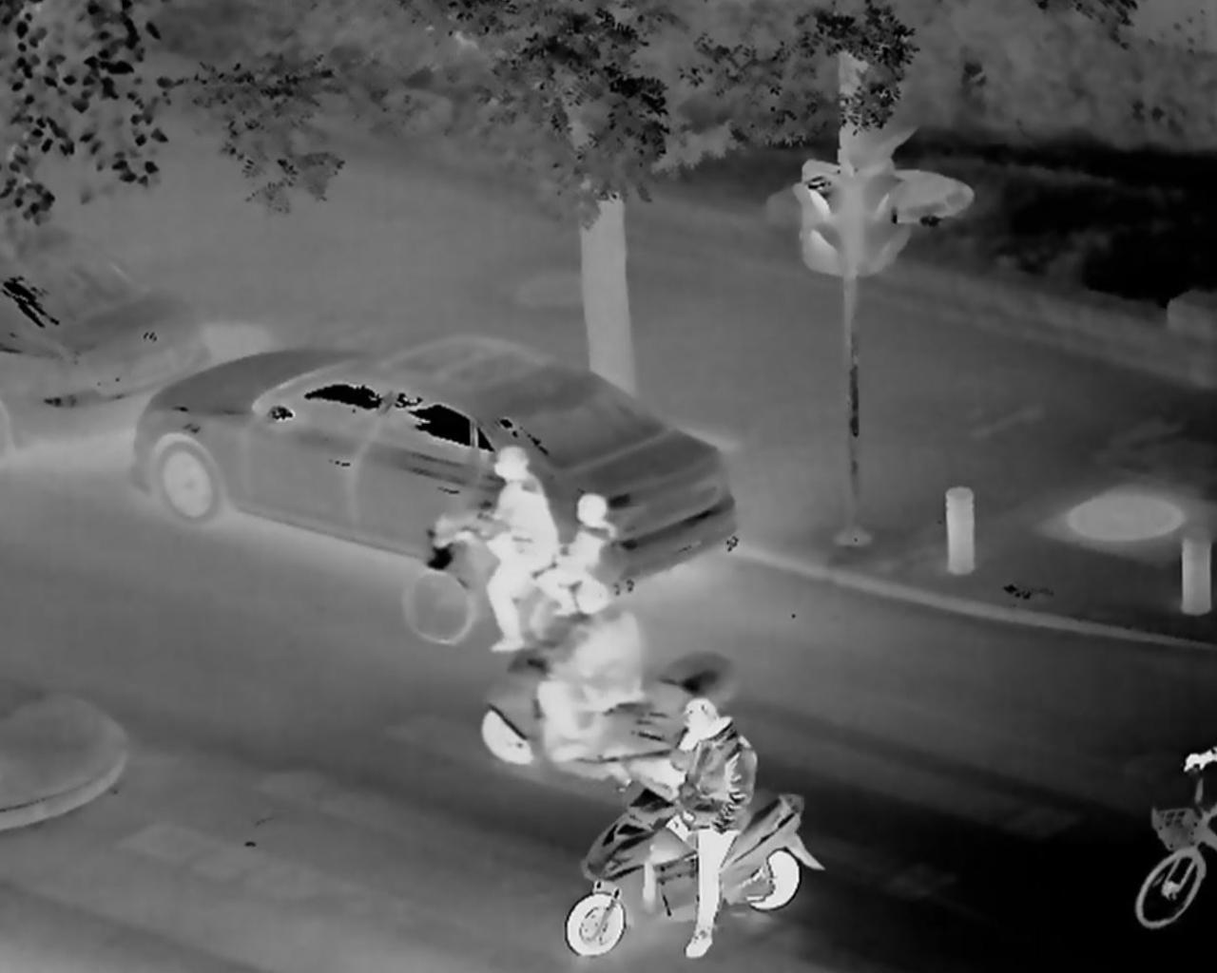person: (662, 697, 754, 961), (537, 571, 646, 761), (473, 446, 558, 655), (563, 494, 625, 619)
